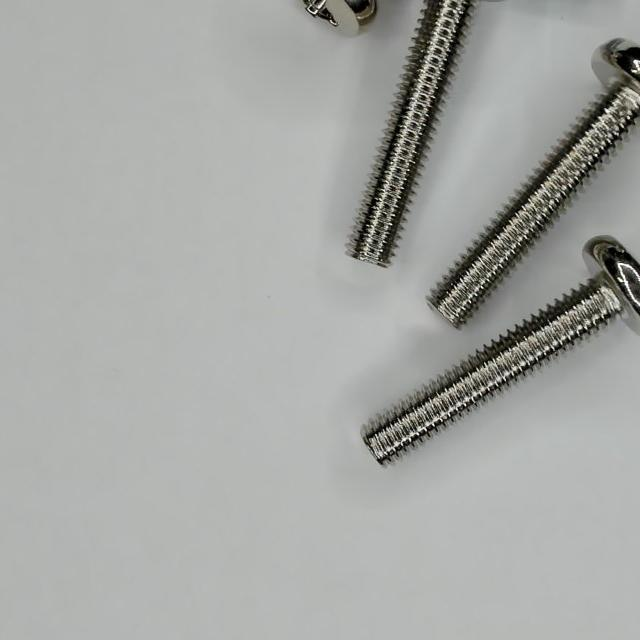Screw: (365, 236, 640, 464), (429, 38, 640, 326), (348, 0, 475, 266)
